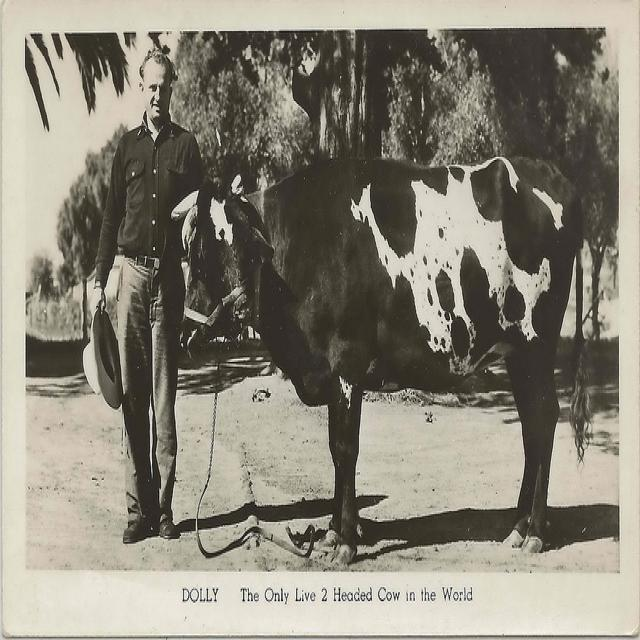cow: (171, 152, 593, 564)
